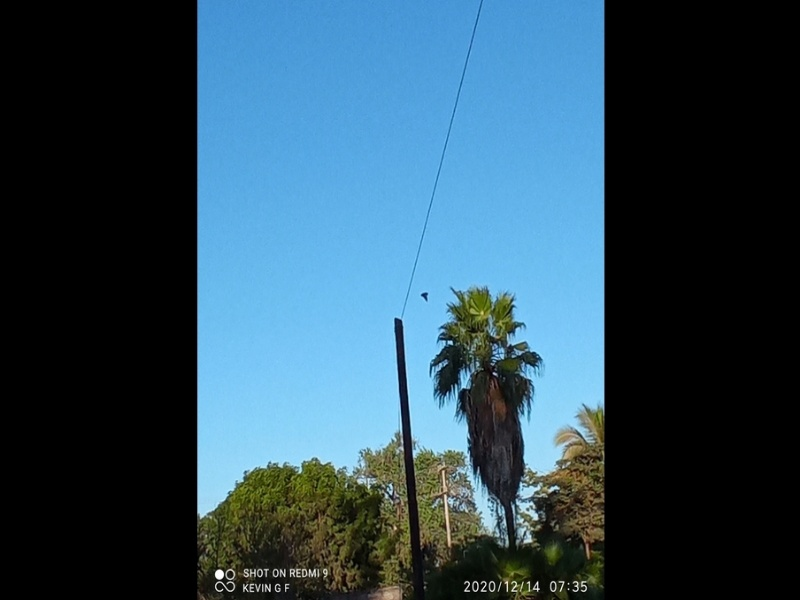kingfisher: (421, 290, 431, 303)
